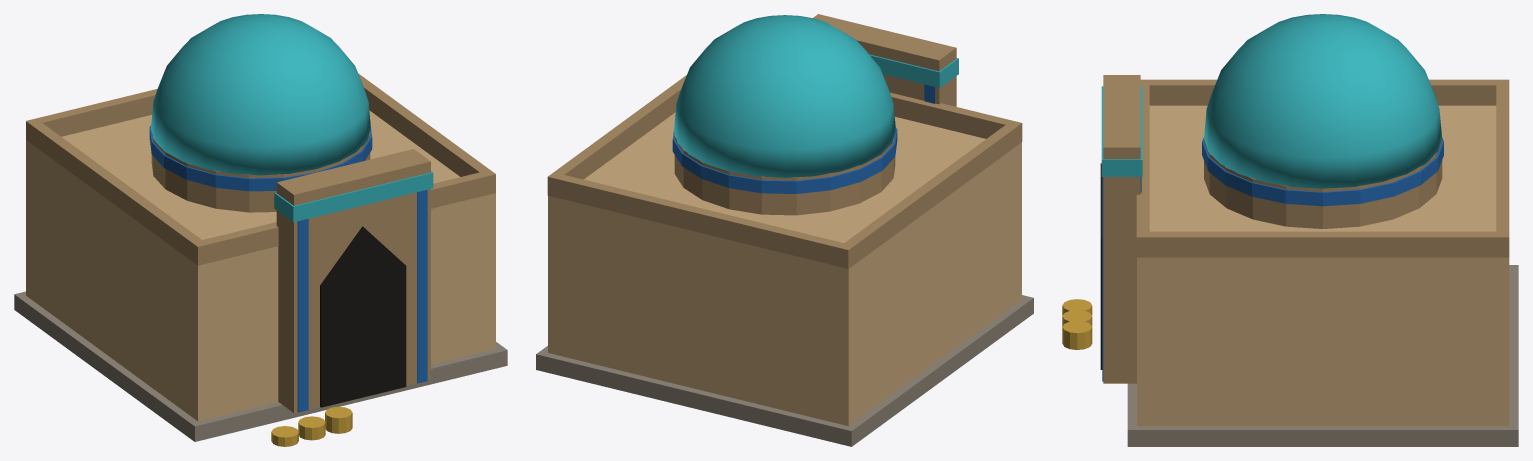
File: mint.glb
3 views of the same model, side by side, from view 1: azimuth 30°, elevation 25°; view 2: azimuth 150°, elevation 25°; view 3: azimuth 270°, elevation 25° (orthographic). The views are drawn at different scales.
Parts seen in each view (by area): view 1: Mint; view 2: Mint; view 3: Mint.
Boxes of the visible parts, <box> form: Mint: <box>14,14,507,446</box>; Mint: <box>536,14,1033,446</box>; Mint: <box>1062,14,1518,446</box>.
Size of the model in its own units: 10.5 by 10.06 by 12.25.
